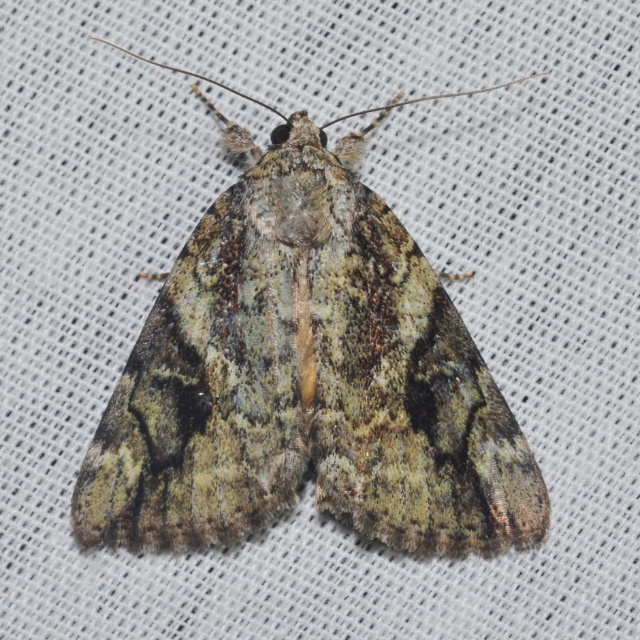Butterfly: (58, 21, 578, 569)
